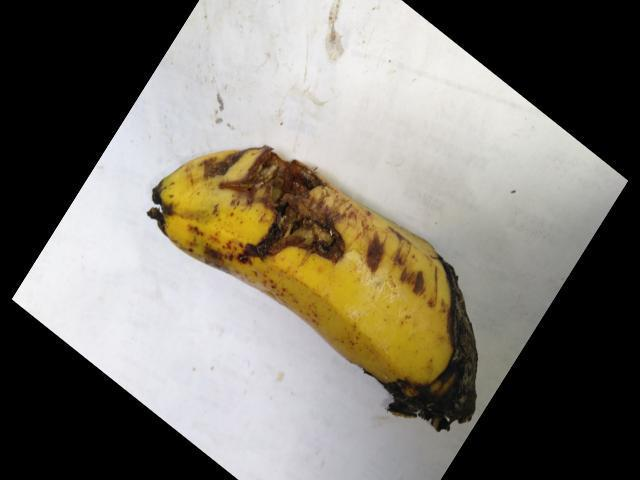rotten: (130, 95, 364, 278), (379, 216, 514, 445)
